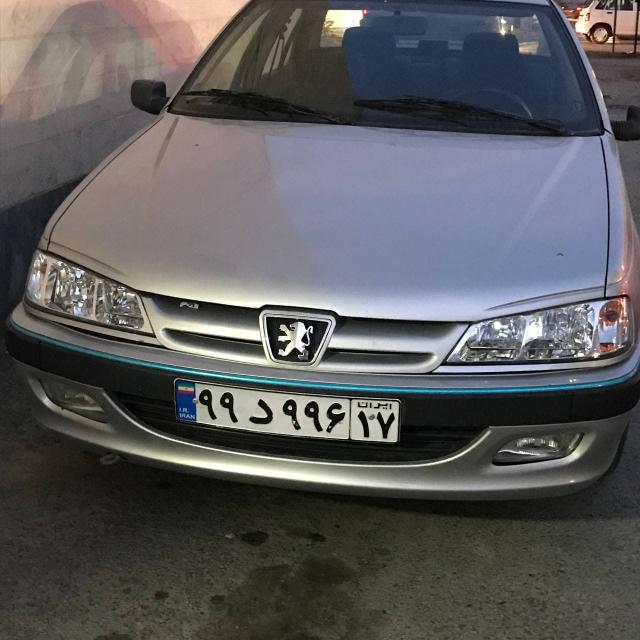Plates: (171, 380, 402, 443)
